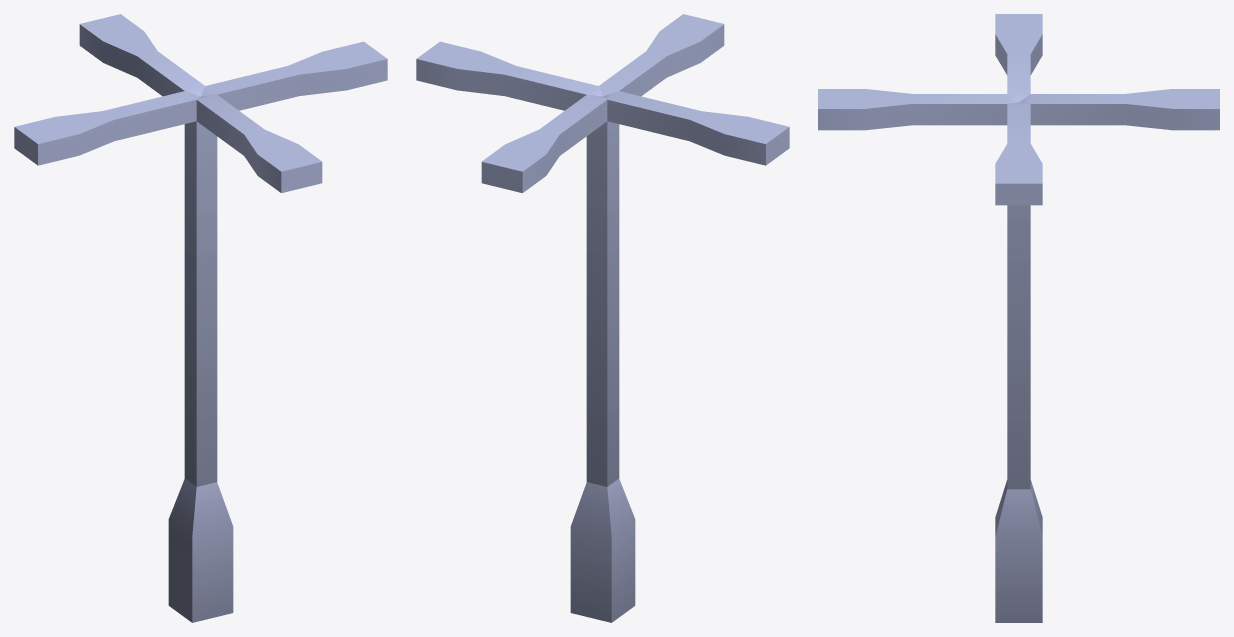
File: light-square-cross.glb
3 renders of one model, left to right at view 1: azimuth 30°, elevation 25°; view 2: azimuth 150°, elevation 25°; view 3: azimuth 270°, elevation 25°, orthographic.
Visible parts, largest first — view 1: light-square-cross; view 2: light-square-cross; view 3: light-square-cross.
Boxes of the visible parts, left/top/right/bottom form: light-square-cross: left=14, top=14, right=387, bottom=622; light-square-cross: left=416, top=14, right=789, bottom=622; light-square-cross: left=818, top=14, right=1219, bottom=622.
Size of the model in its own units: 4.25 by 6 by 4.25.
Materials: 1 (1 with a texture image).
